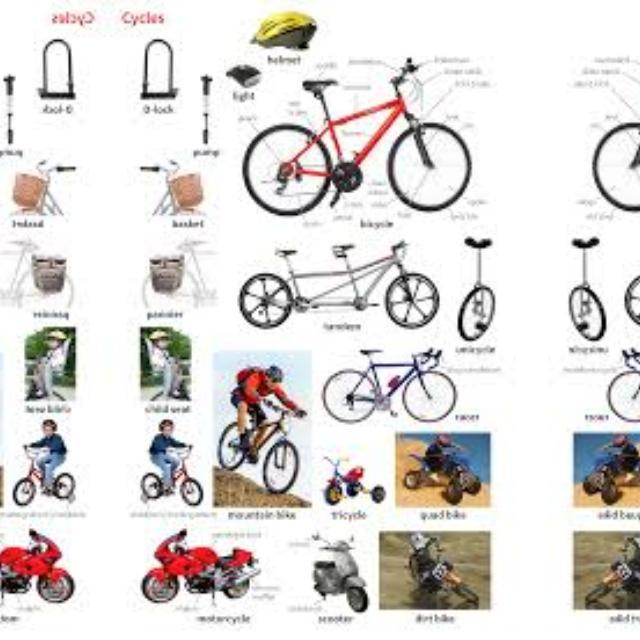obstacle: (235, 63, 487, 215), (575, 63, 640, 215)
